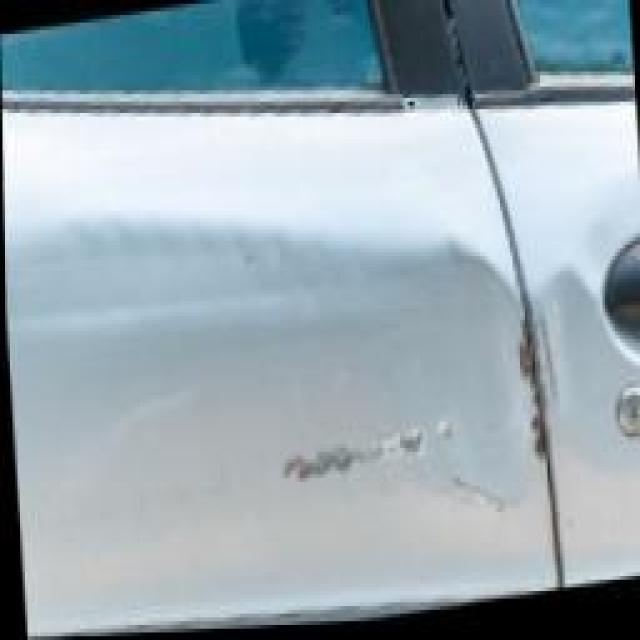Door: (212, 166, 552, 632)
